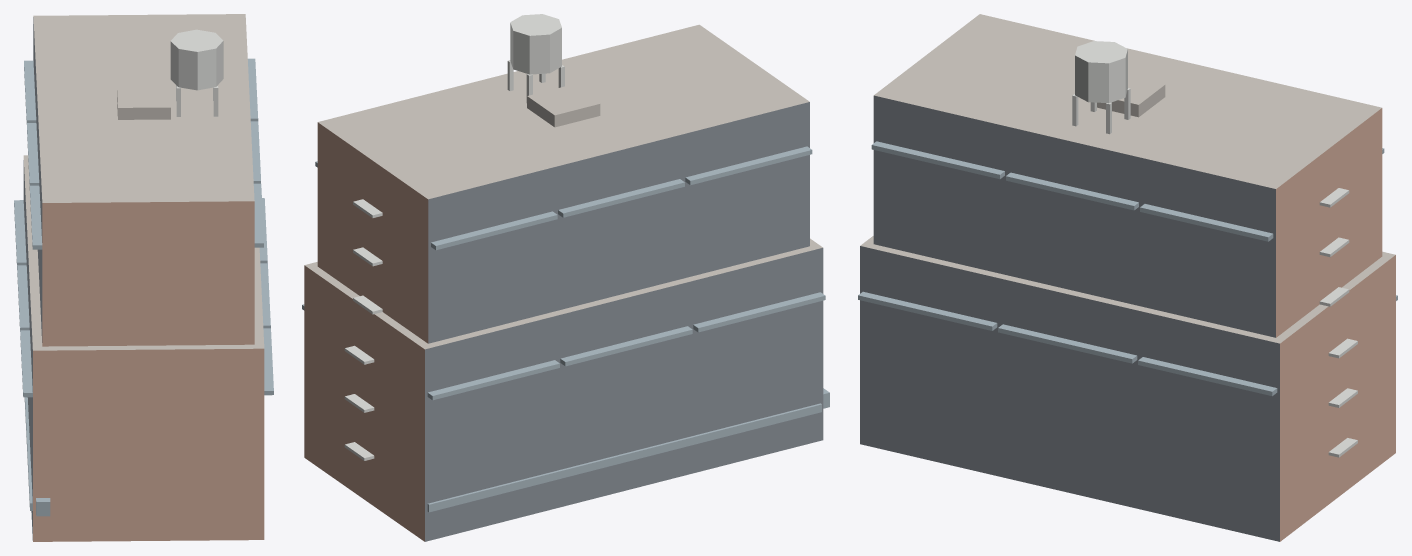
The model's file is doitt-39969__lod_1.glb.
3 renders of one model, left to right at view 1: azimuth 30°, elevation 25°; view 2: azimuth 150°, elevation 25°; view 3: azimuth 270°, elevation 25°, orthographic. The views are drawn at different scales.
Size of the model in its own units: 27.98 by 28.22 by 33.12.
